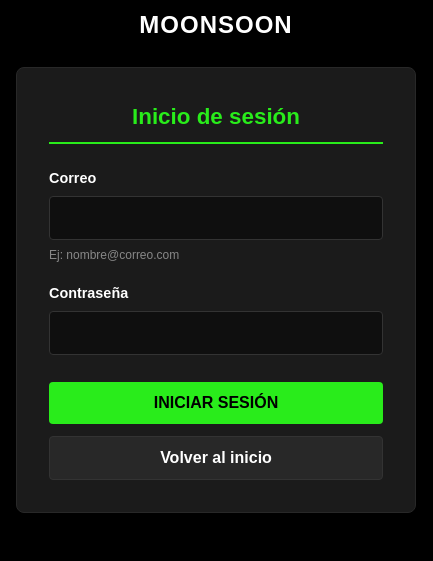
it: Login › muestra error si el correo tiene un formato inválido
Type "correo-no-valido" into the field labelled "Correo" at (216, 218), box x1=49 y1=196 x2=383 y2=240
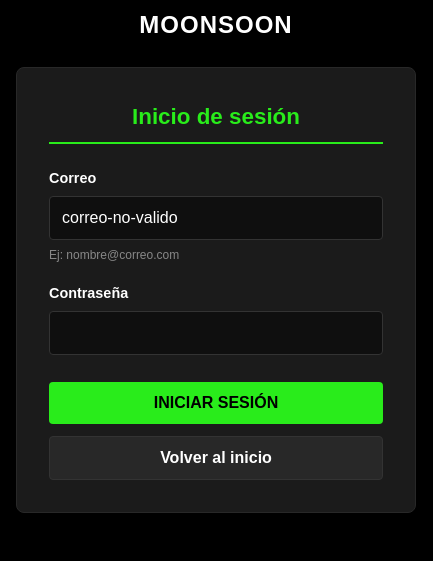
Type "algo" into the password field labelled "Contraseña" at (216, 333), box x1=49 y1=311 x2=383 y2=355
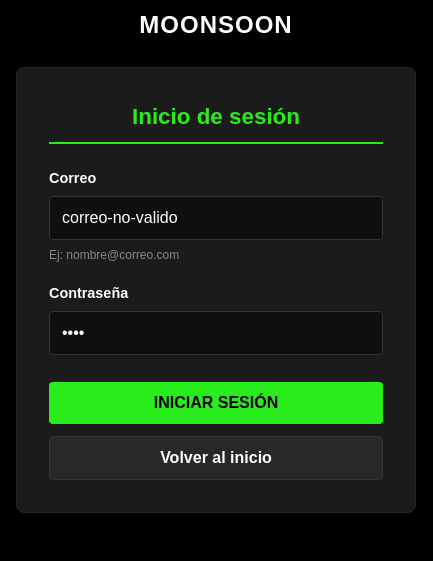
Click the button "Iniciar sesión" at (216, 403), box x1=49 y1=382 x2=383 y2=424
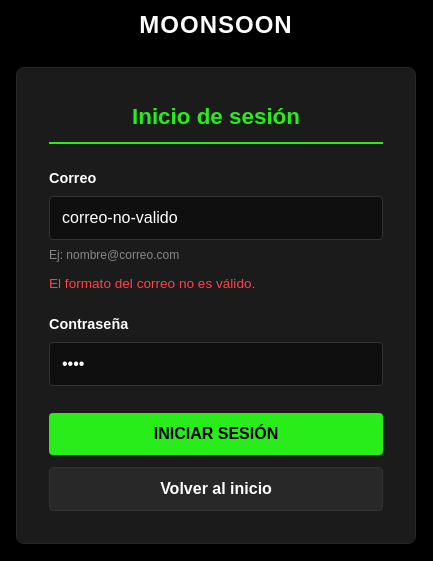
Now the text "El formato del correo no es válido." is shown, box x1=49 y1=276 x2=255 y2=291
